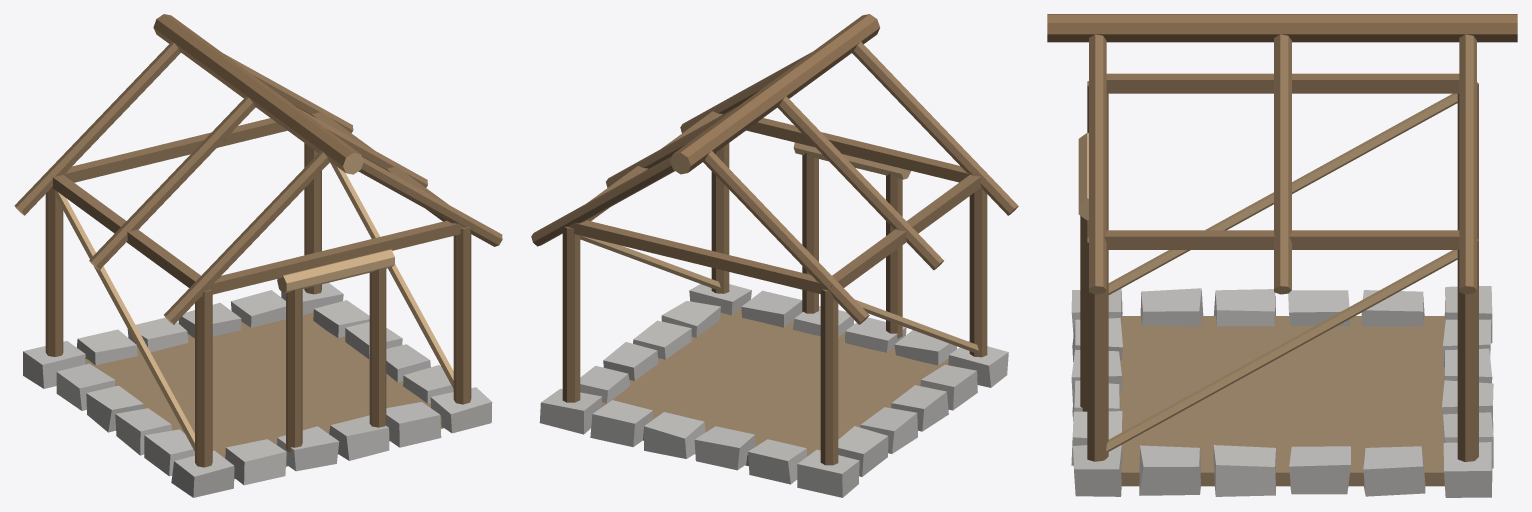
Rendered from building_cut_stone_house_frame.glb.
3 renders of one model, left to right at view 1: azimuth 30°, elevation 25°; view 2: azimuth 150°, elevation 25°; view 3: azimuth 270°, elevation 25°, orthographic. The views are drawn at different scales.
Visible parts, largest first — view 1: building_cut_stone_house_frame; view 2: building_cut_stone_house_frame; view 3: building_cut_stone_house_frame.
Part boxes in pixels (bbox=[...]): building_cut_stone_house_frame: bbox=[14, 14, 502, 497]; building_cut_stone_house_frame: bbox=[531, 14, 1018, 497]; building_cut_stone_house_frame: bbox=[1047, 14, 1517, 497].
Size of the model in its own units: 3.85 by 3.47 by 3.76.
